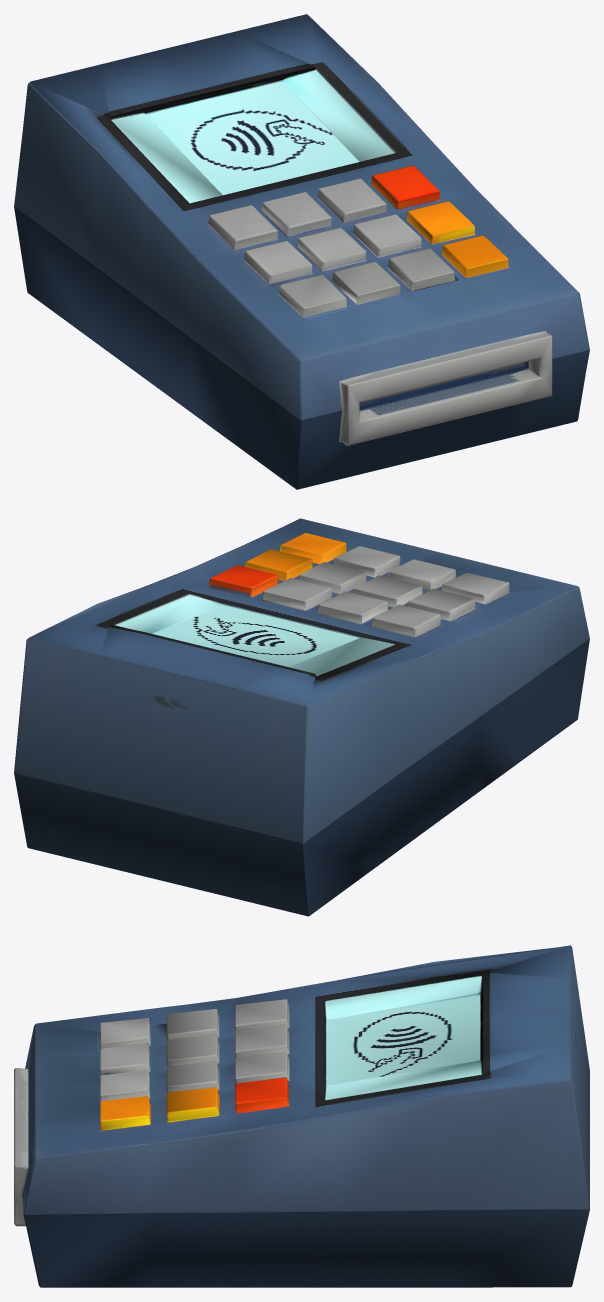
The model's file is Meshy_AI_Biometric_Payment_Ter_0329214856_texture.fbx.
The picture shows the model from 3 angles, top to bottom: view 1: azimuth 30°, elevation 25°; view 2: azimuth 150°, elevation 25°; view 3: azimuth 270°, elevation 25°; orthographic projection.
Parts seen in each view (by area): view 1: Mesh_0.001; view 2: Mesh_0.001; view 3: Mesh_0.001.
Part boxes in pixels (x1,y1,x2,y2): Mesh_0.001: (14,14,589,489); Mesh_0.001: (14,518,589,916); Mesh_0.001: (14,945,589,1287).
Size of the model in its own units: 35.95 by 25 by 62.76.
1 material, 1 textured.
